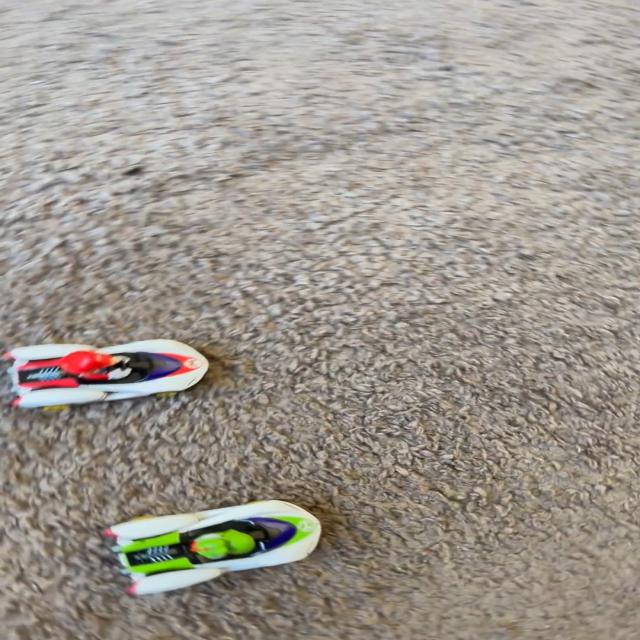mario: (2, 316, 226, 418)
yoshi: (94, 476, 343, 610)
